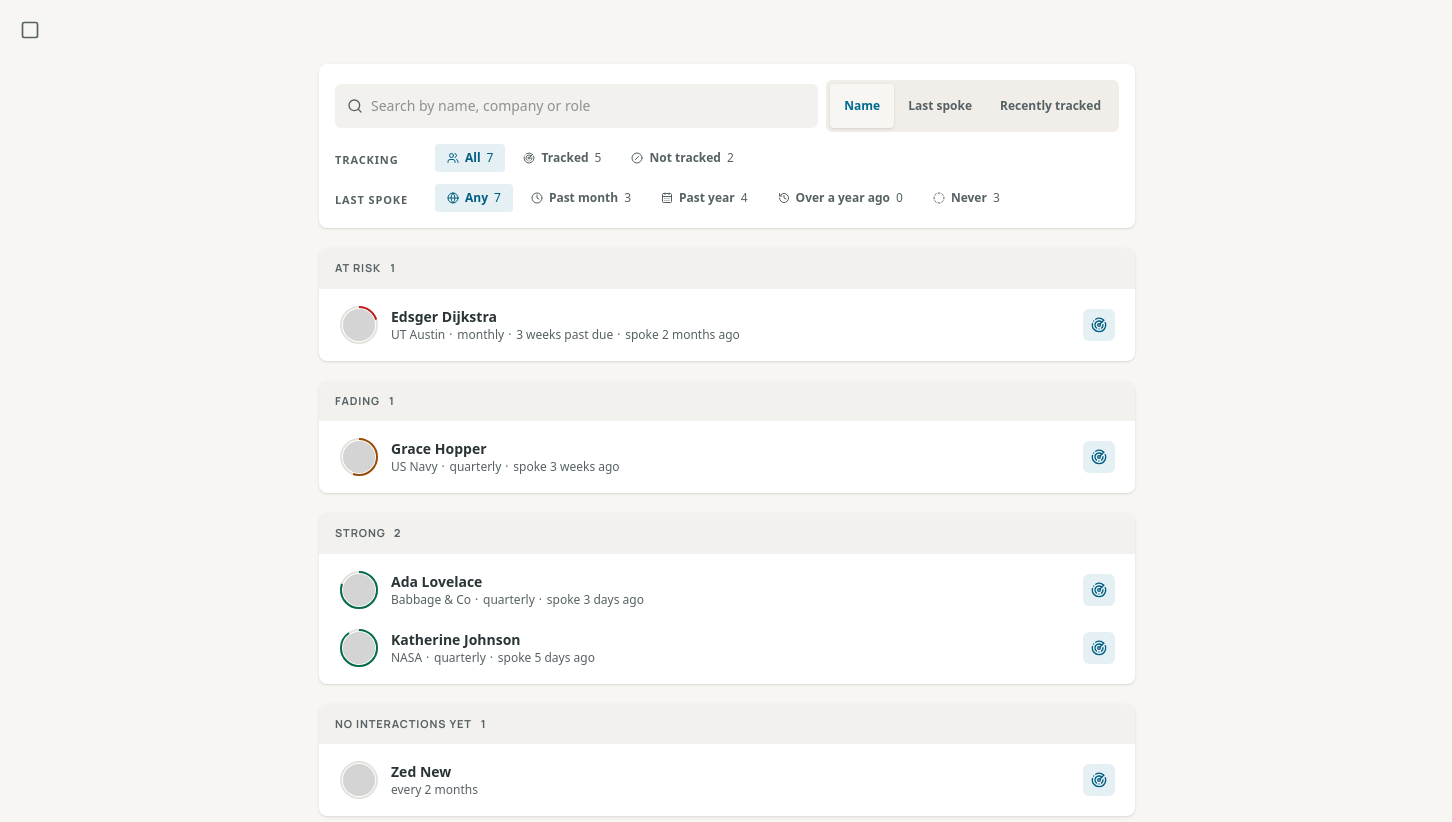
Test: the Tracked contacts page › narrows by the search box and offers to clear it when no one matches
Type "nasa" into the search field named "Search tracked contacts". click: (577, 106)
box: [335,84,818,128]
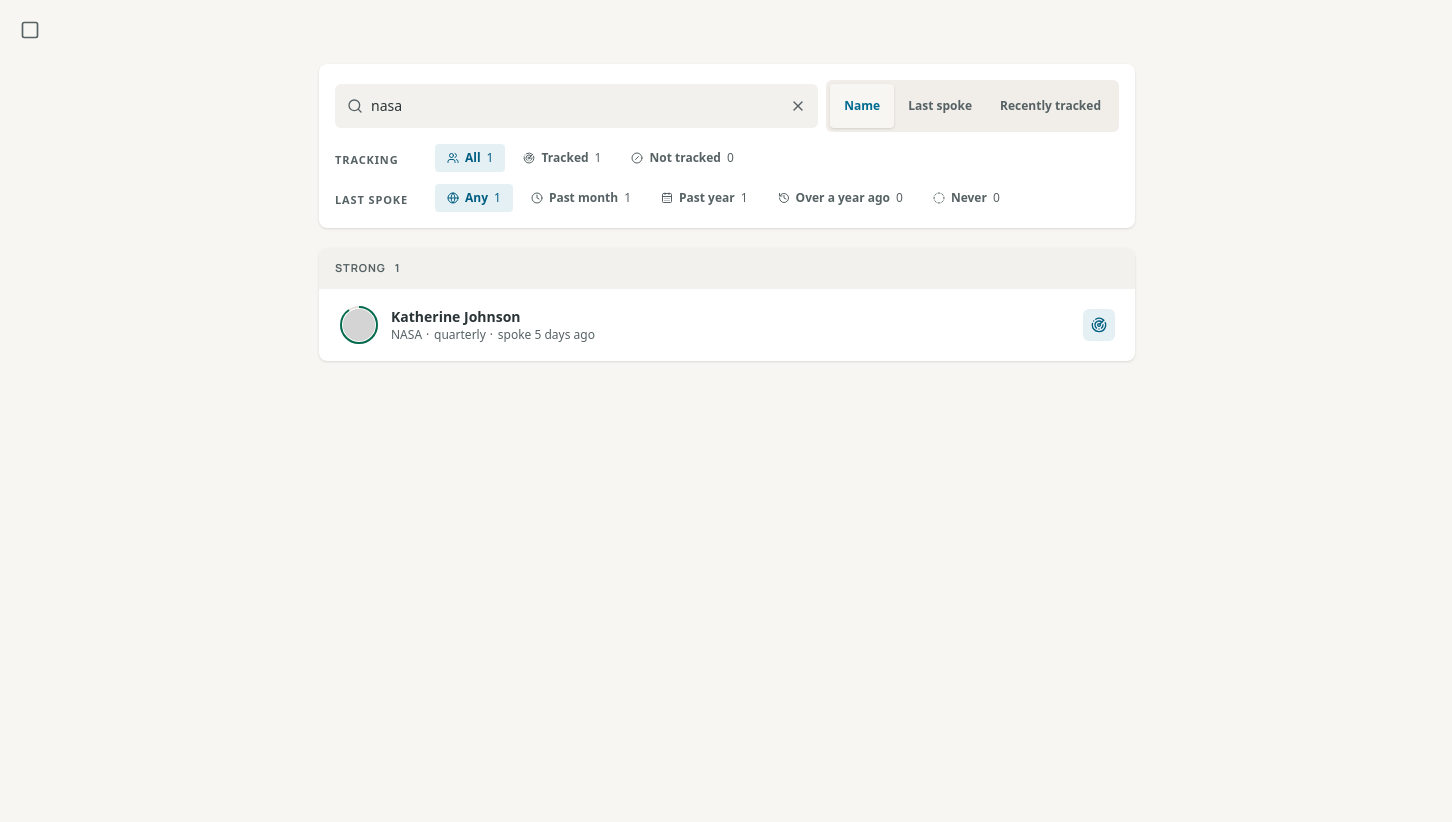
Expected: the heading "At risk" is gone
Replace the text in the search field named "Search tracked contacts" with "zzz". click: (577, 106)
box: [335,84,818,128]
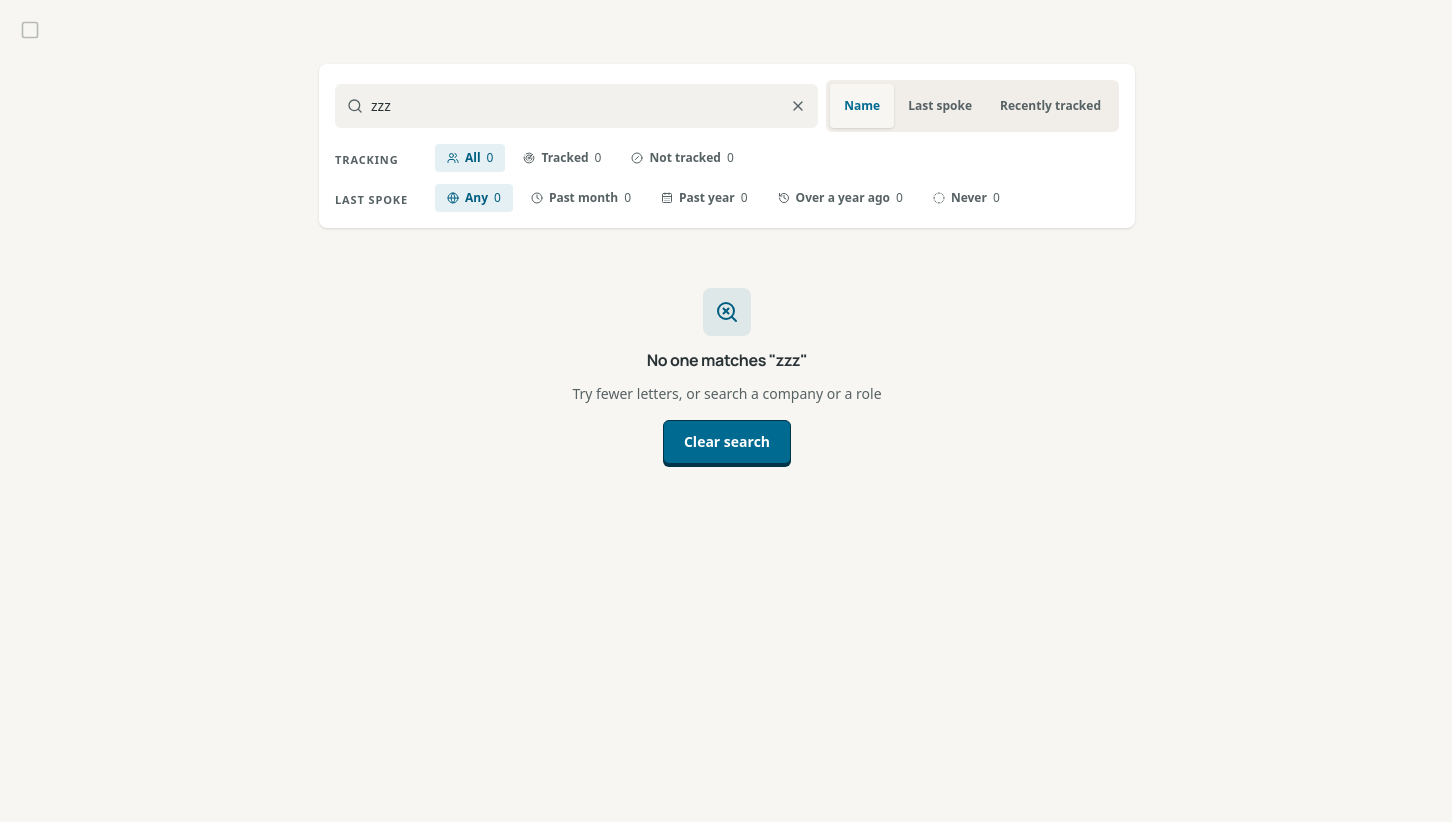
Expected: the heading "No one matches \"zzz\"" is shown, [647,348,807,372]
Click the button "Clear search". click: (727, 442)
box: [663,420,791,464]
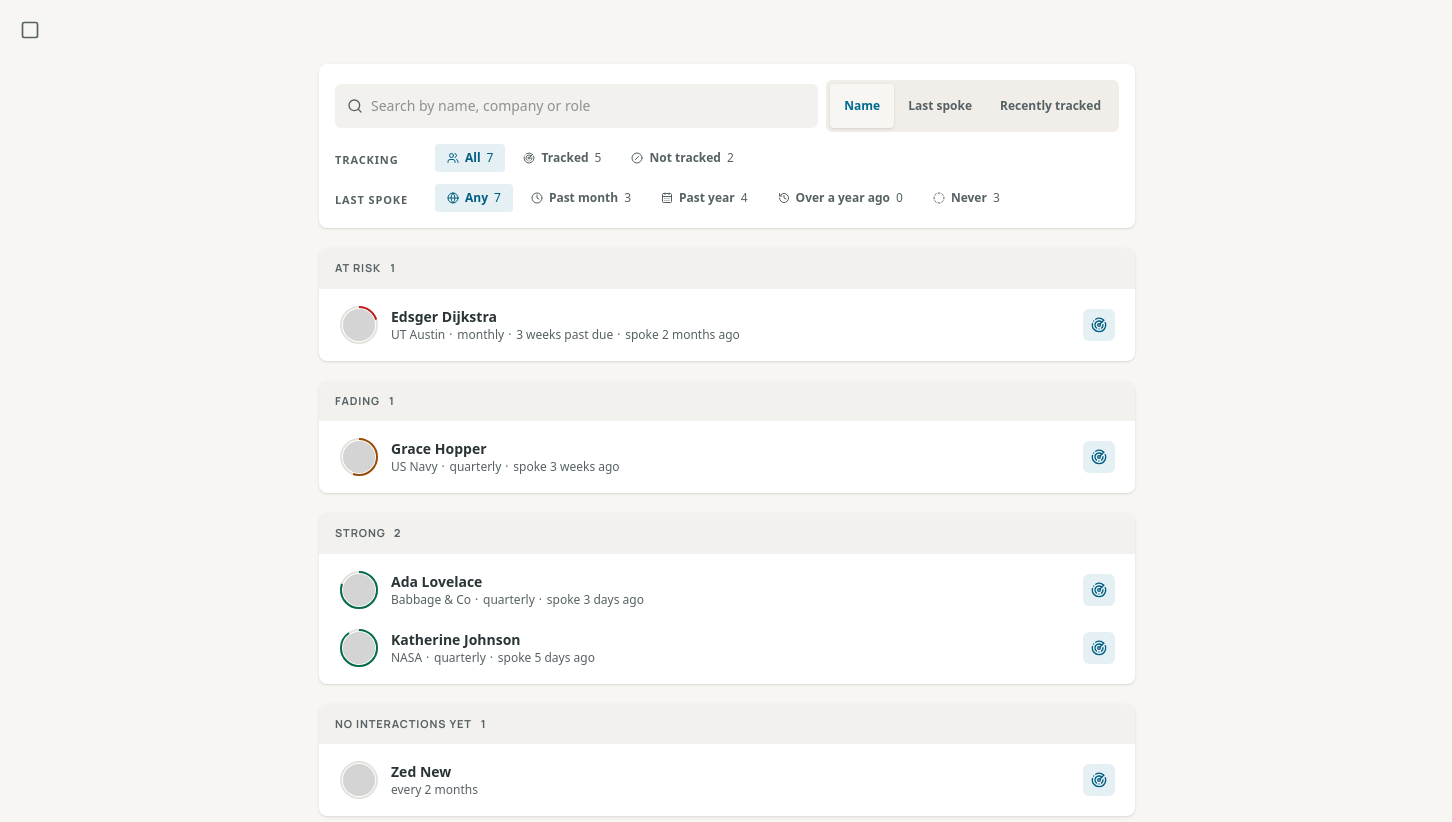
Expected: the heading "At risk 1" is shown, [335,260,397,276]
